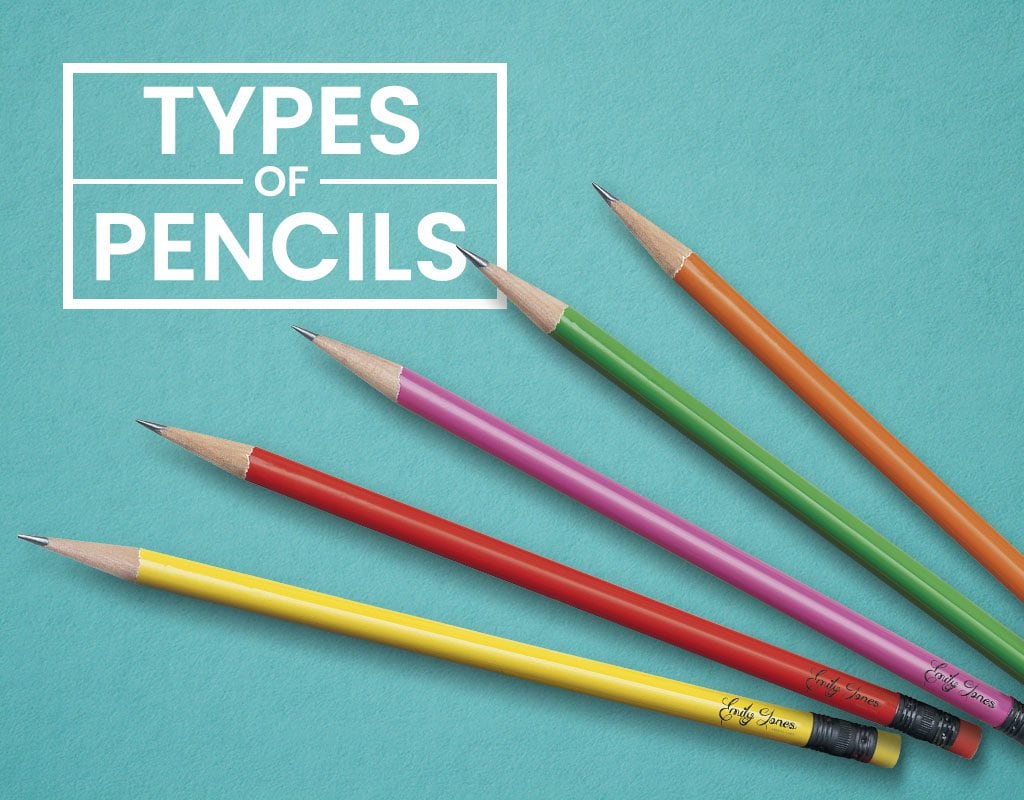pencil: (107, 377, 1024, 765), (281, 290, 1024, 751), (410, 207, 1024, 686), (5, 503, 931, 797), (573, 146, 1024, 618)
